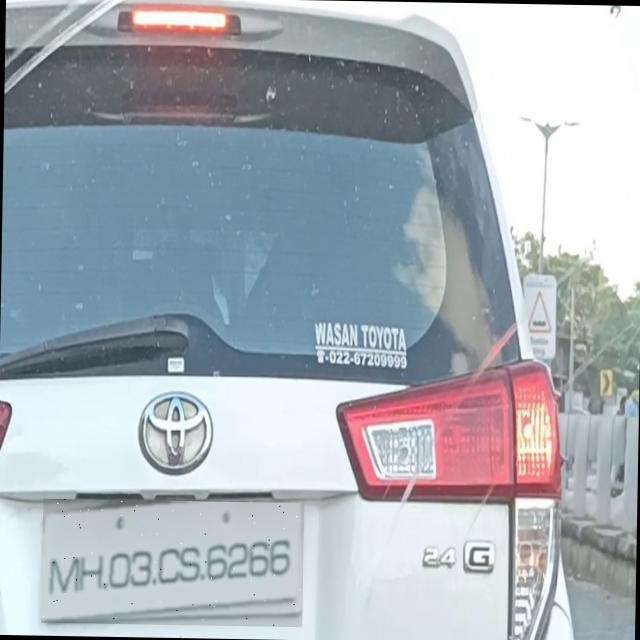Plate: (42, 499, 305, 628)
